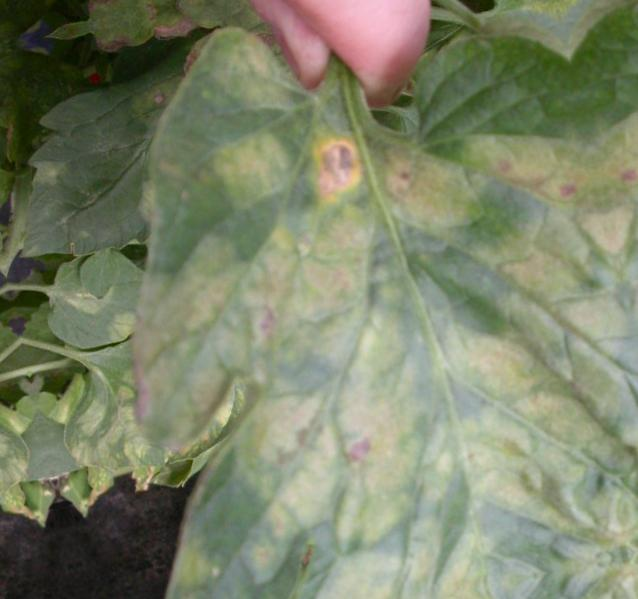Tomato mold leaf: (46, 34, 638, 599)
